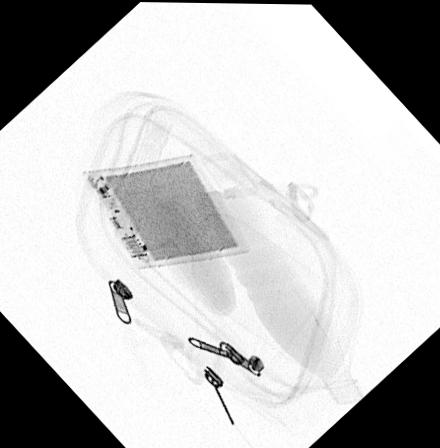Powerbank: (81, 152, 250, 269)
